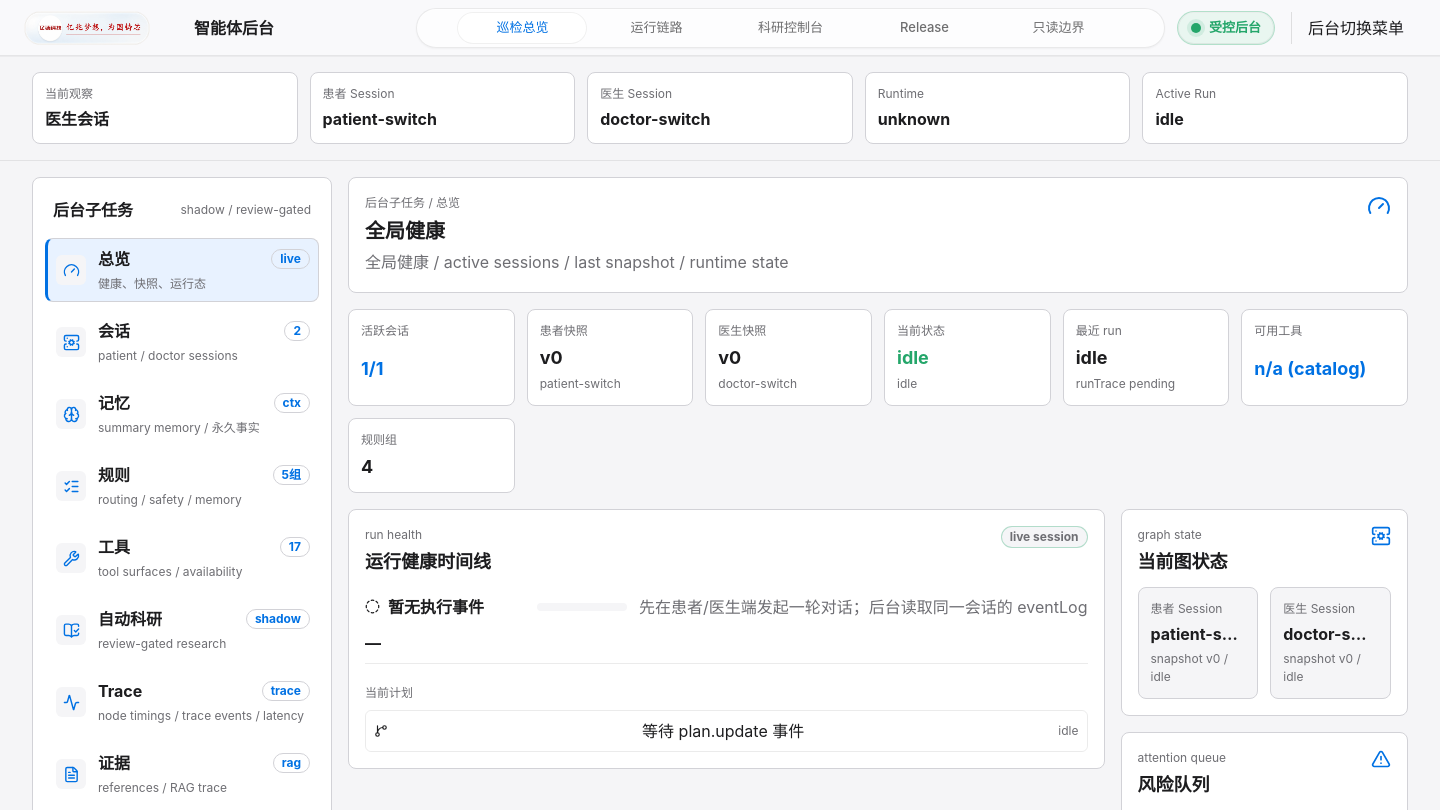
Test: AgentAdminView › shows only the selected trace page
Click the button "Trace trace node timings / trace events / latency" at (120,691), box [45,670,319,734]
(page scrolled)
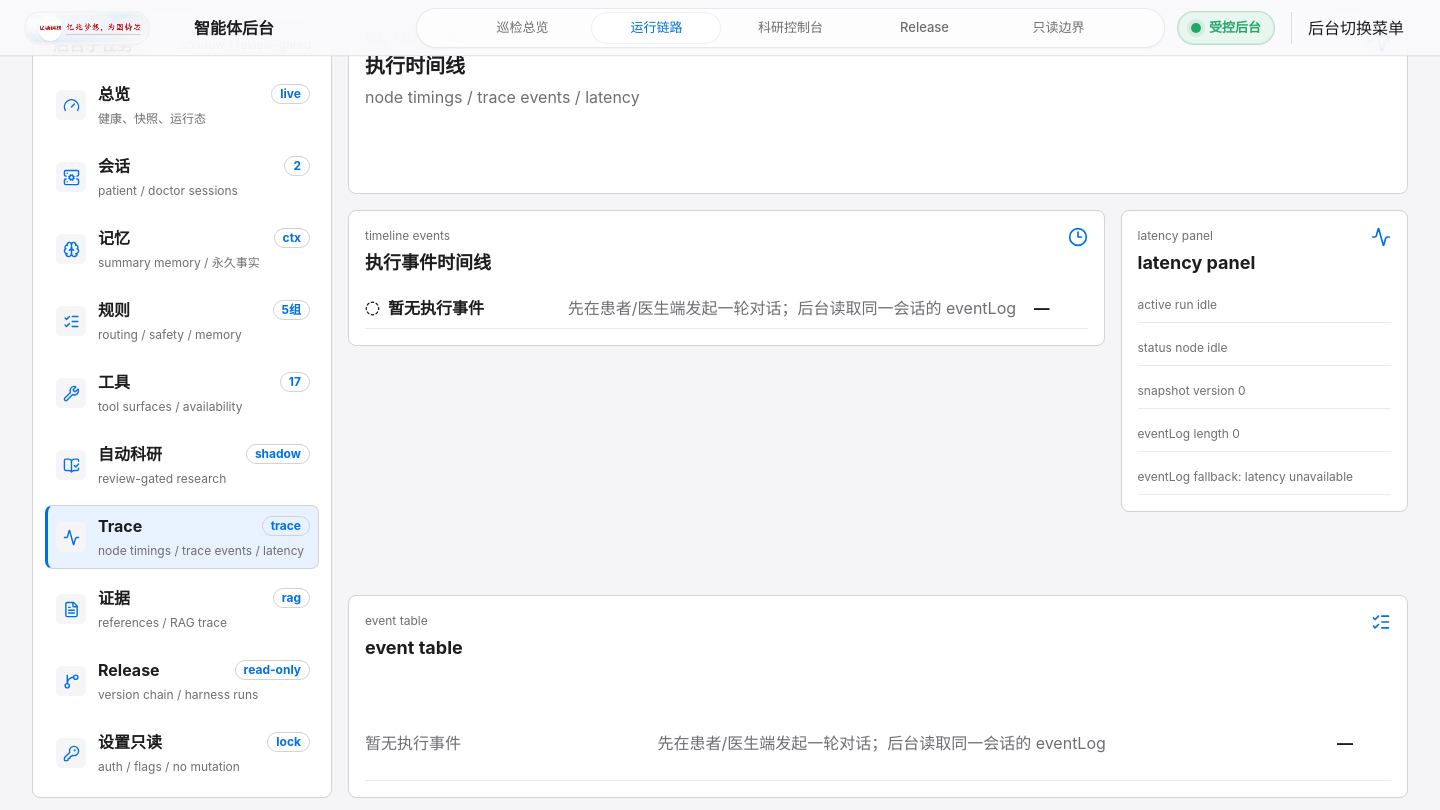
Result: the element with test id "agent-admin-task-page" shows "event table" at [365,613,428,628]
